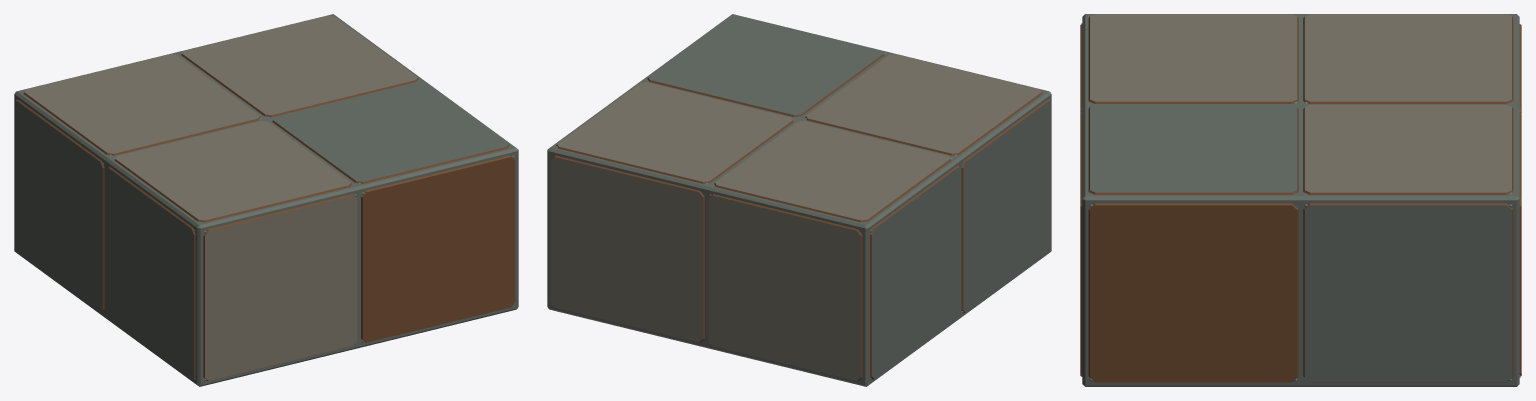
The model's file is R4B_Slab2x2.fbx.
3 renders of one model, left to right at view 1: azimuth 30°, elevation 25°; view 2: azimuth 150°, elevation 25°; view 3: azimuth 270°, elevation 25°, orthographic. The views are drawn at different scales.
Parts seen in each view (by area): view 1: R4B_Slab2x2; view 2: R4B_Slab2x2; view 3: R4B_Slab2x2.
Boxes of the visible parts, box(x1,y1,x2,y2) form: R4B_Slab2x2: box(14, 14, 518, 386); R4B_Slab2x2: box(547, 14, 1051, 386); R4B_Slab2x2: box(1080, 14, 1521, 386).
Size of the model in its own units: 1.07 by 0.52 by 1.07.
